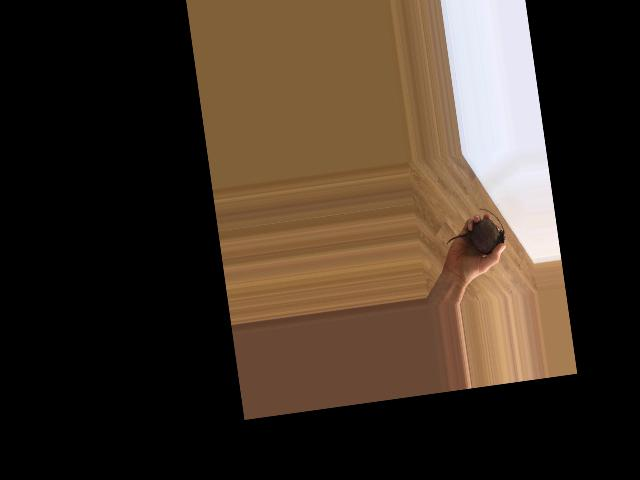beet: (442, 205, 507, 259)
